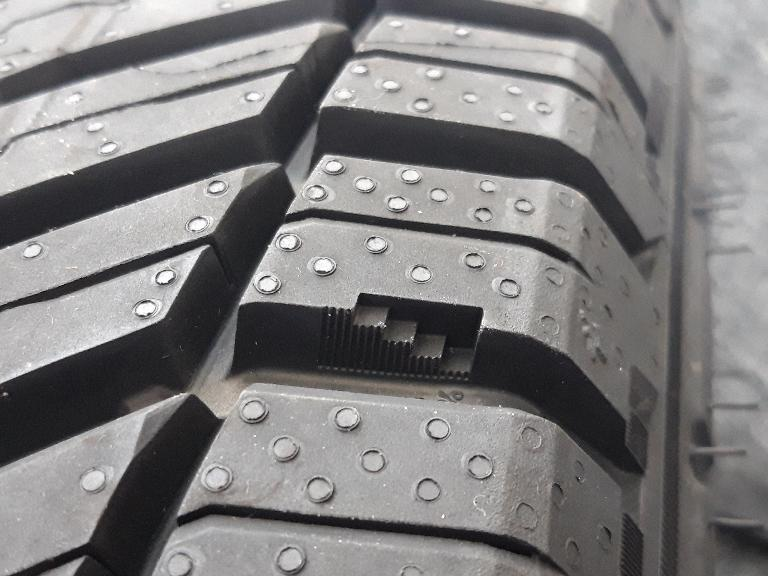temoin:100: (310, 285, 491, 389)
